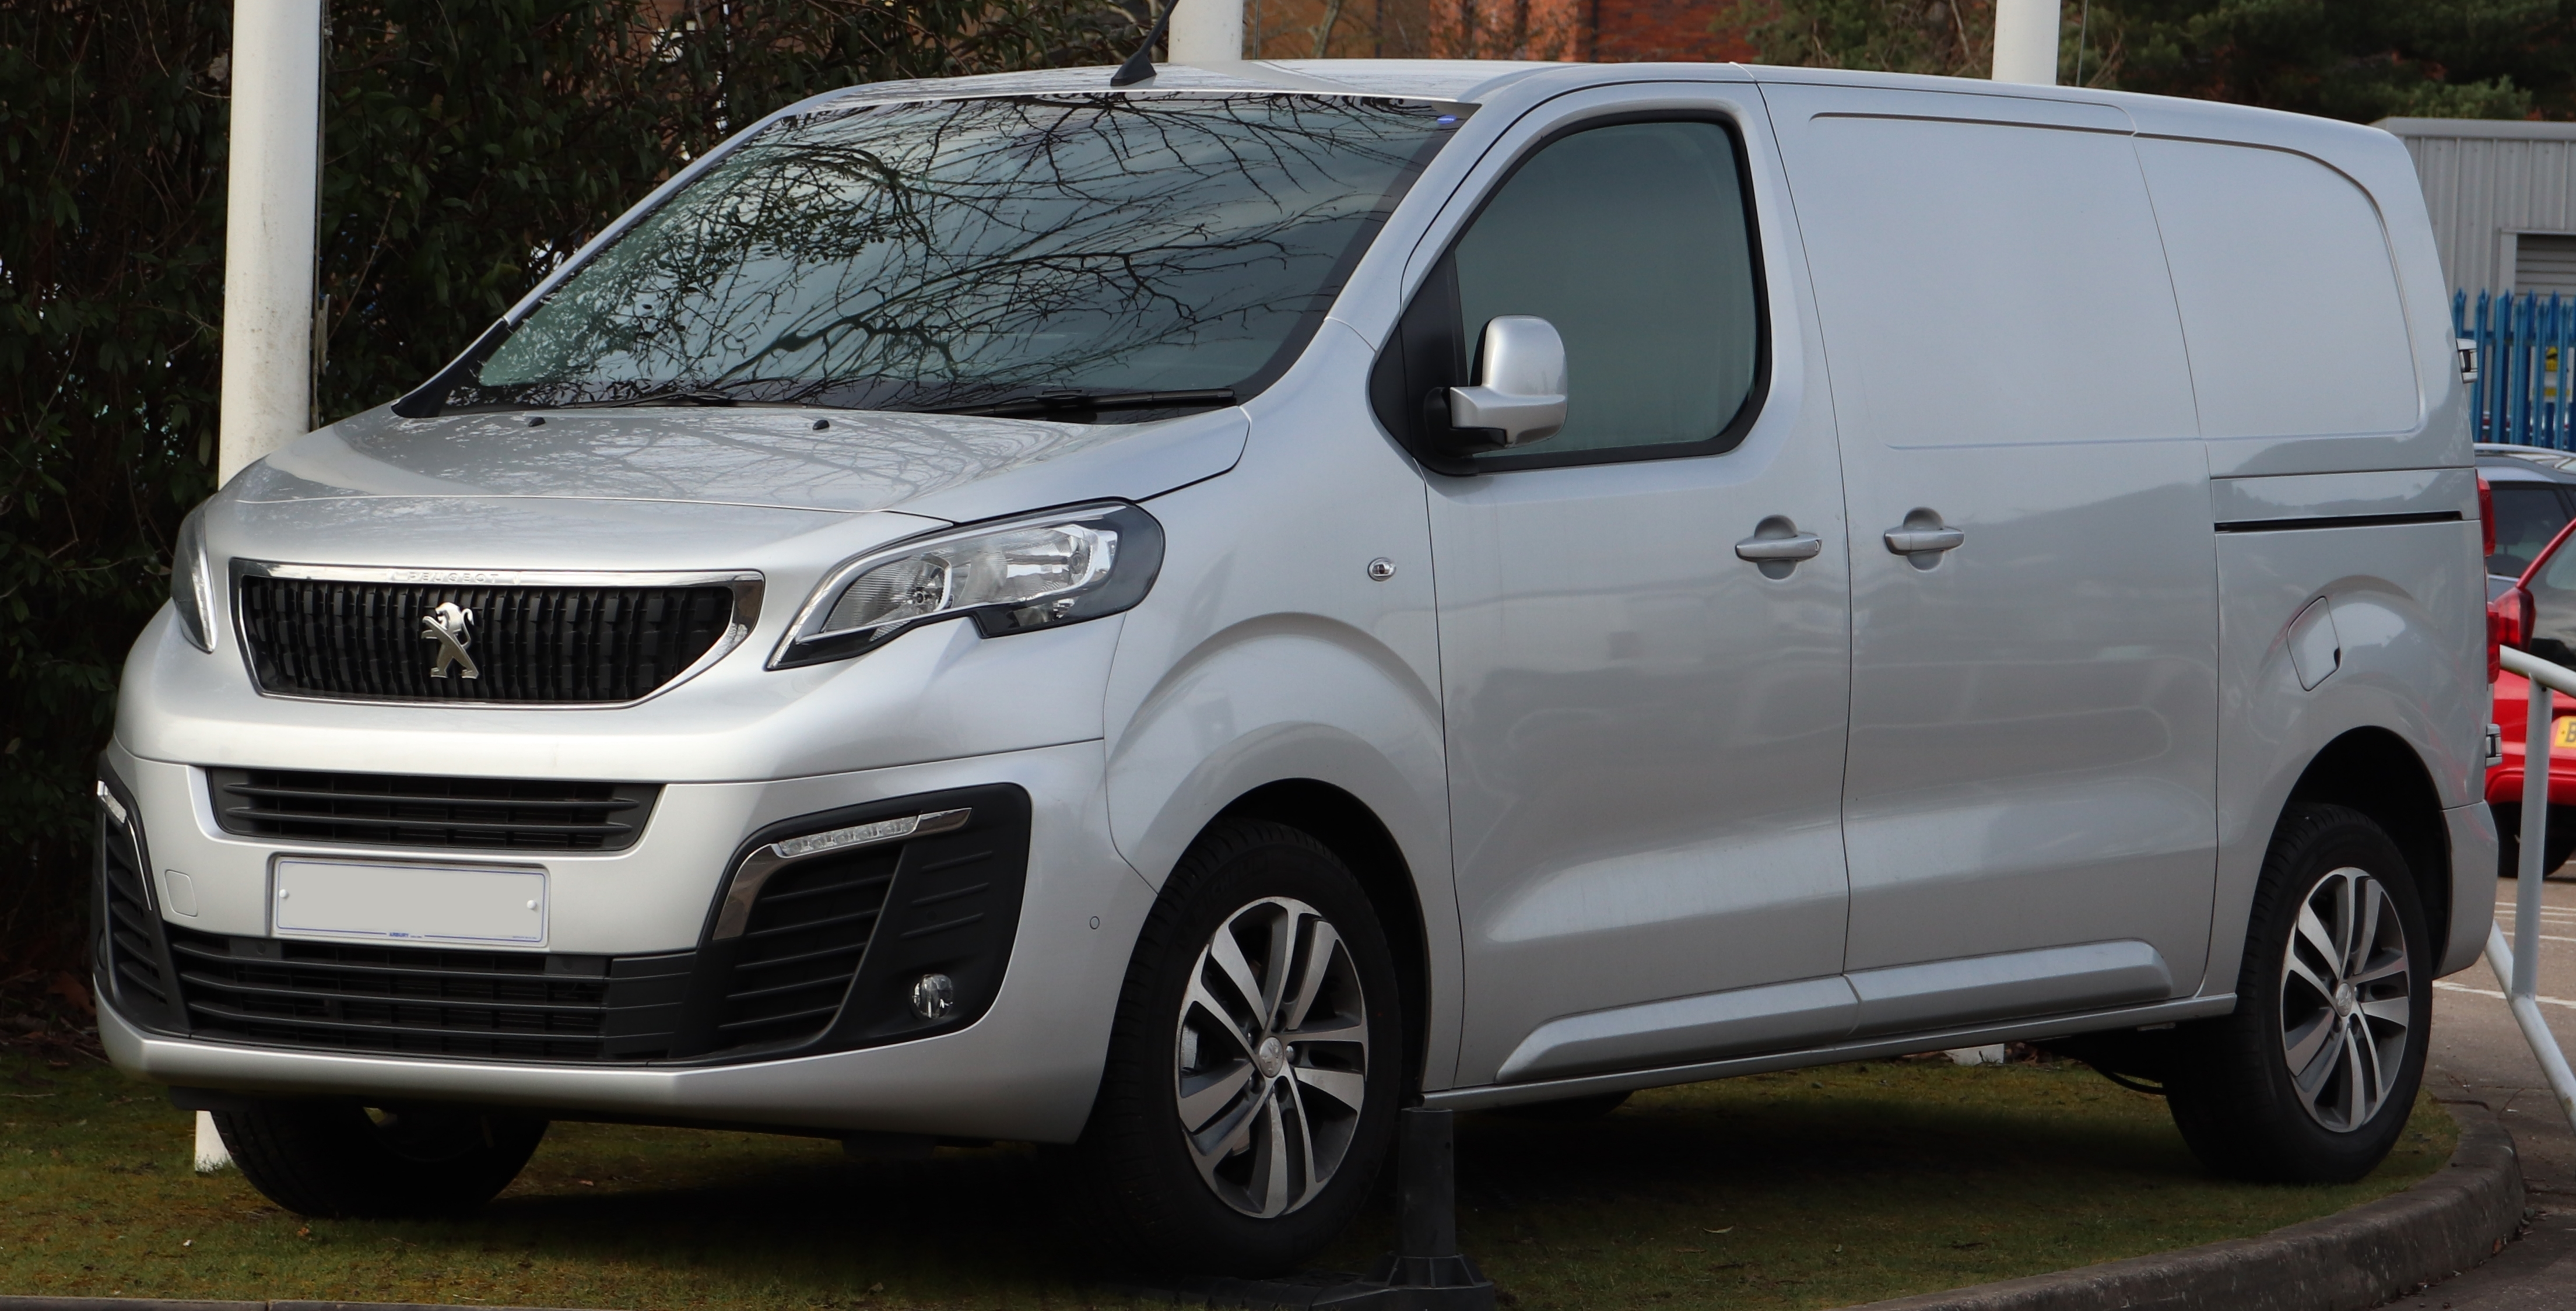van: (102, 55, 2492, 1247)
